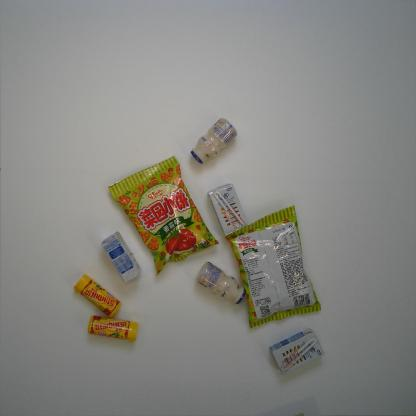Candy: (73, 274, 122, 318), (87, 315, 139, 343)
Milk: (268, 328, 326, 376), (190, 116, 238, 165), (195, 261, 246, 305), (207, 183, 249, 236), (101, 230, 142, 283)
Puffed Food: (108, 155, 219, 276), (224, 204, 322, 330)
